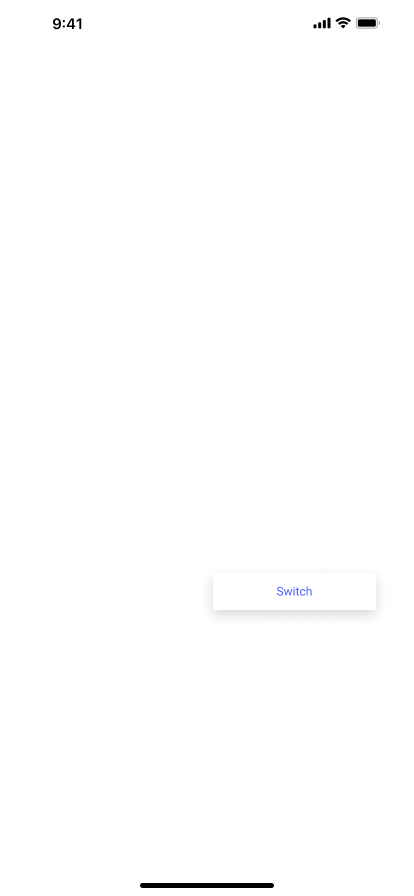Buttons: (199, 564, 390, 629)
Home Indicator: (0, 862, 414, 896)
Status Bar: (0, 0, 414, 44)
